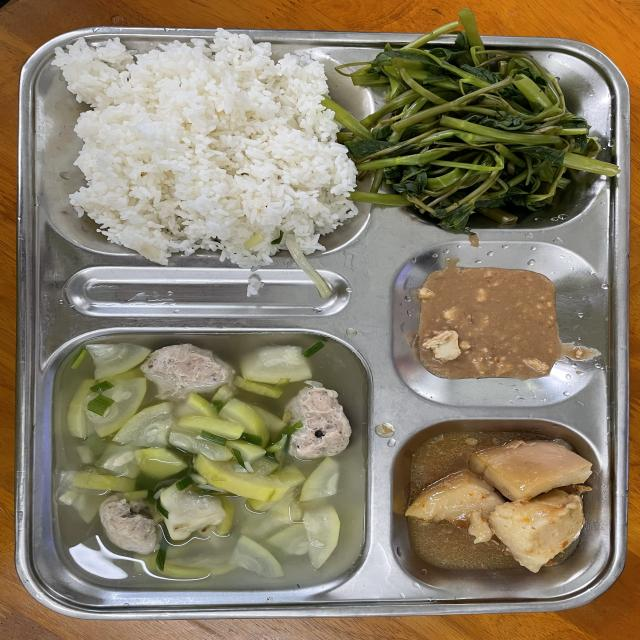com_trang: (74, 46, 318, 258)
rau_muong_xao: (372, 53, 594, 208)
thit_kho_trung: (421, 444, 584, 580)
